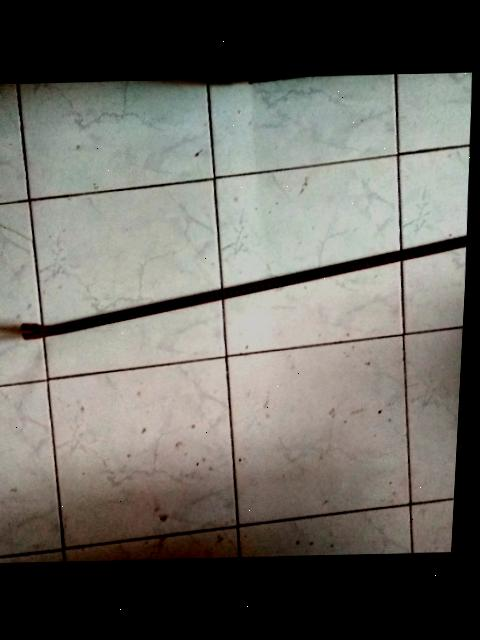crow bar: (11, 228, 469, 354)
